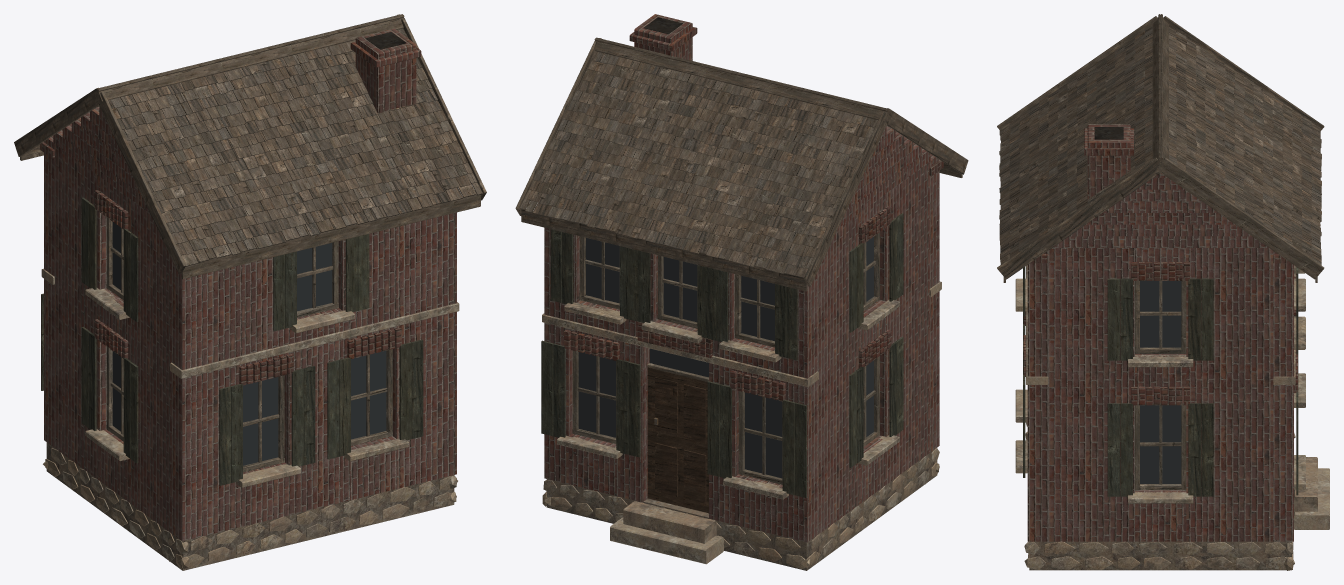
Rendered from b_bhouse.glb.
3 renders of one model, left to right at view 1: azimuth 30°, elevation 25°; view 2: azimuth 150°, elevation 25°; view 3: azimuth 270°, elevation 25°, orthographic. The views are drawn at different scales.
Visible parts, largest first — view 1: b_bhouse; view 2: b_bhouse; view 3: b_bhouse.
Boxes of the visible parts, left/top/right/bottom form: b_bhouse: left=14, top=14, right=486, bottom=570; b_bhouse: left=515, top=14, right=968, bottom=570; b_bhouse: left=997, top=14, right=1329, bottom=570.
Size of the model in its own units: 3.96 by 5.45 by 3.87.
5 materials, 4 textured.
